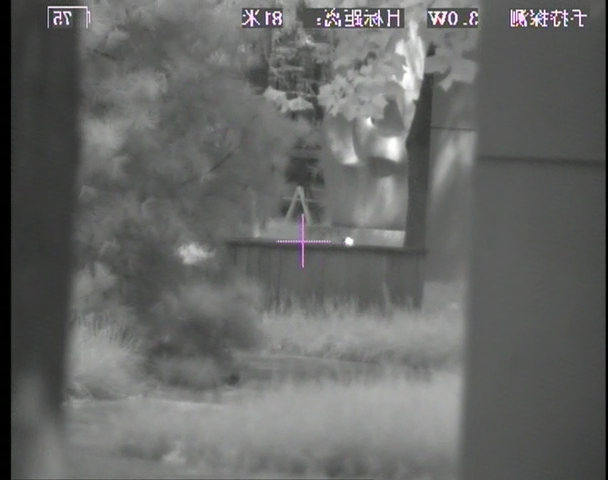my: (344, 236, 355, 247)
